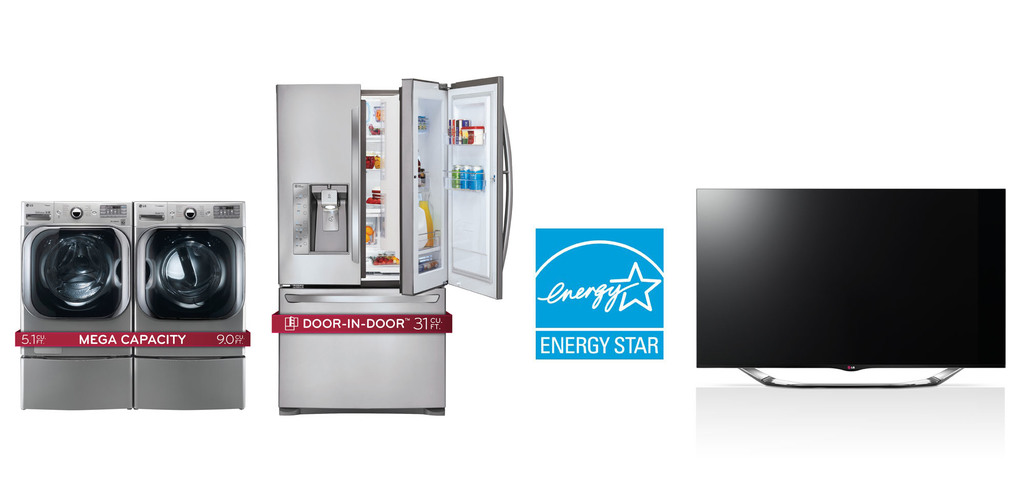handle: (492, 122, 518, 252), (286, 290, 430, 311), (342, 114, 360, 262)
refrigerator door: (406, 76, 494, 290), (283, 291, 436, 407), (275, 82, 362, 281), (274, 82, 358, 287)
